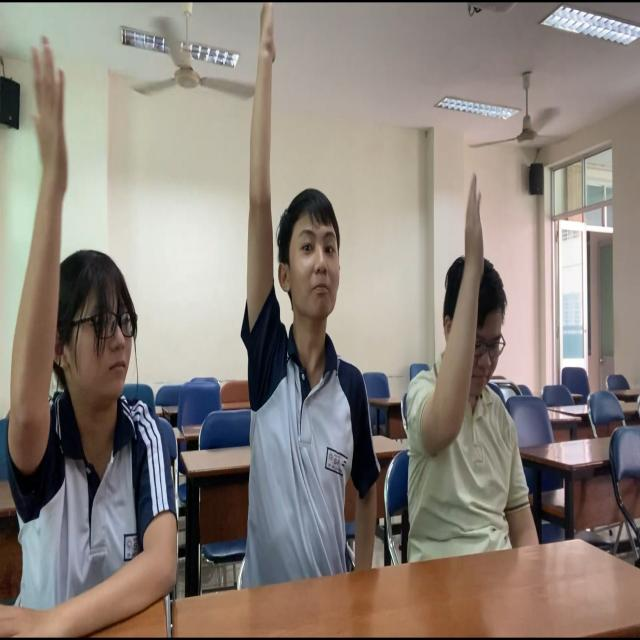raise_hand: (1, 36, 182, 640), (232, 1, 385, 602), (414, 176, 542, 564)
